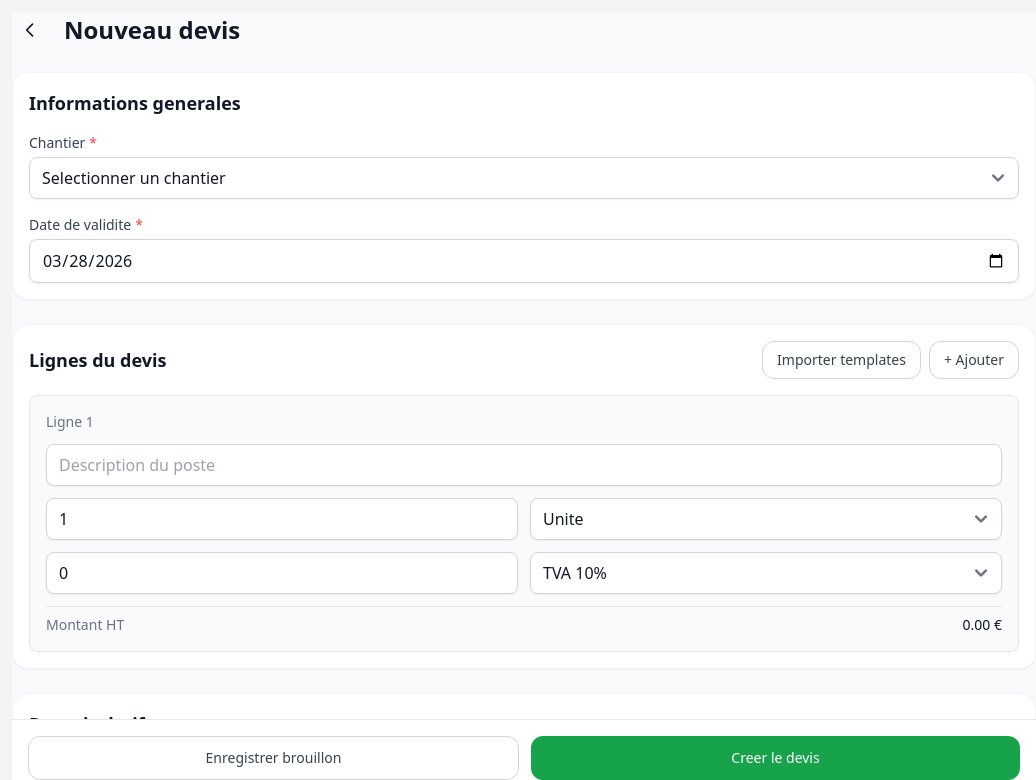
DevisBuilder › should add new ligne when clicking "+ Ajouter"
The image size is (1036, 780).
Click the button "+ Ajouter". click: (974, 360)
box: [929, 341, 1019, 379]
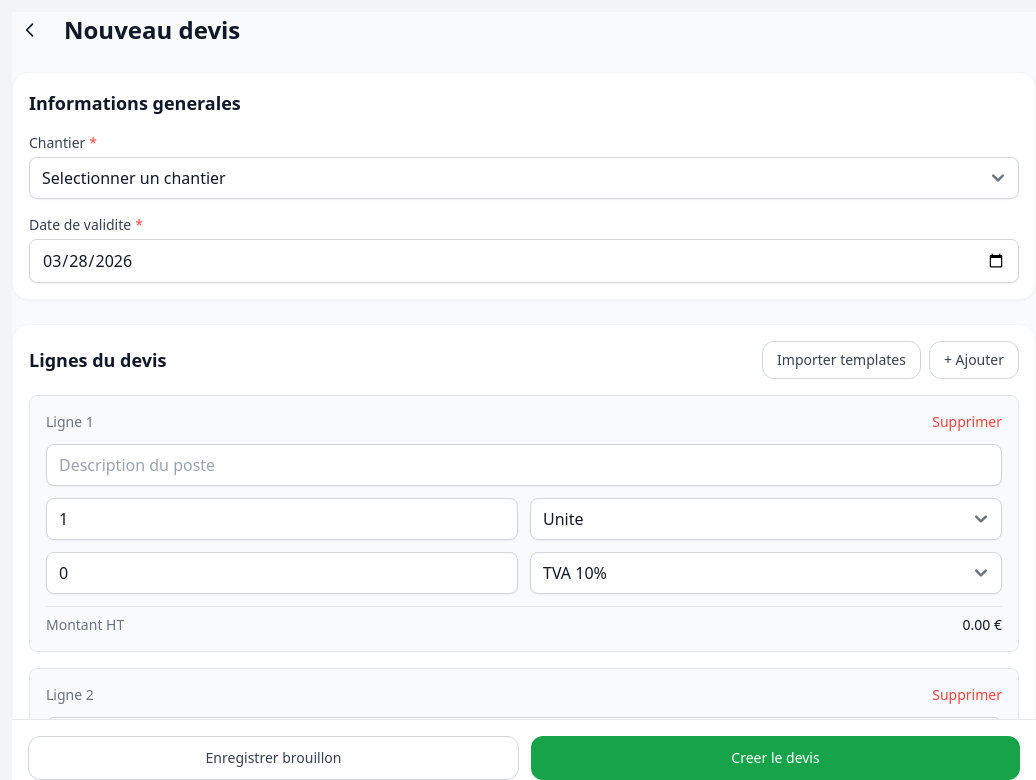
Expected: the text "Ligne 2" is shown, [46, 685, 94, 705]
